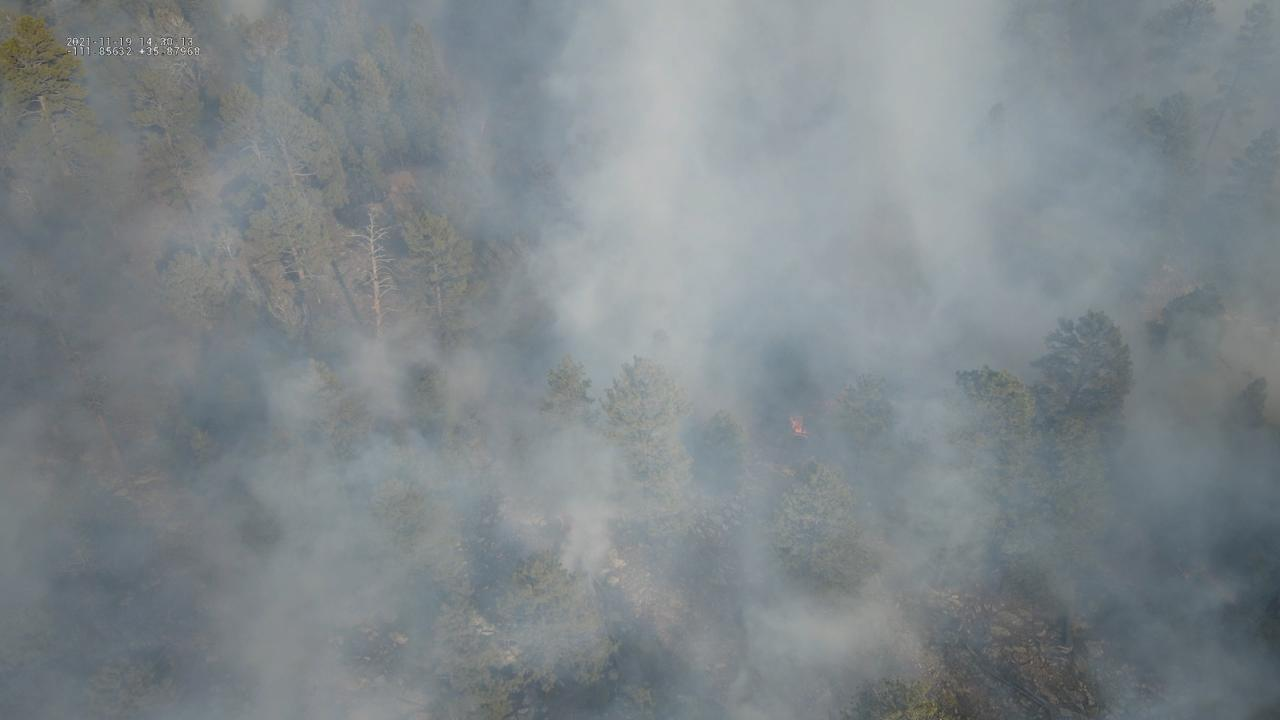fire: (786, 412, 814, 441)
smoke: (0, 0, 1280, 720)
